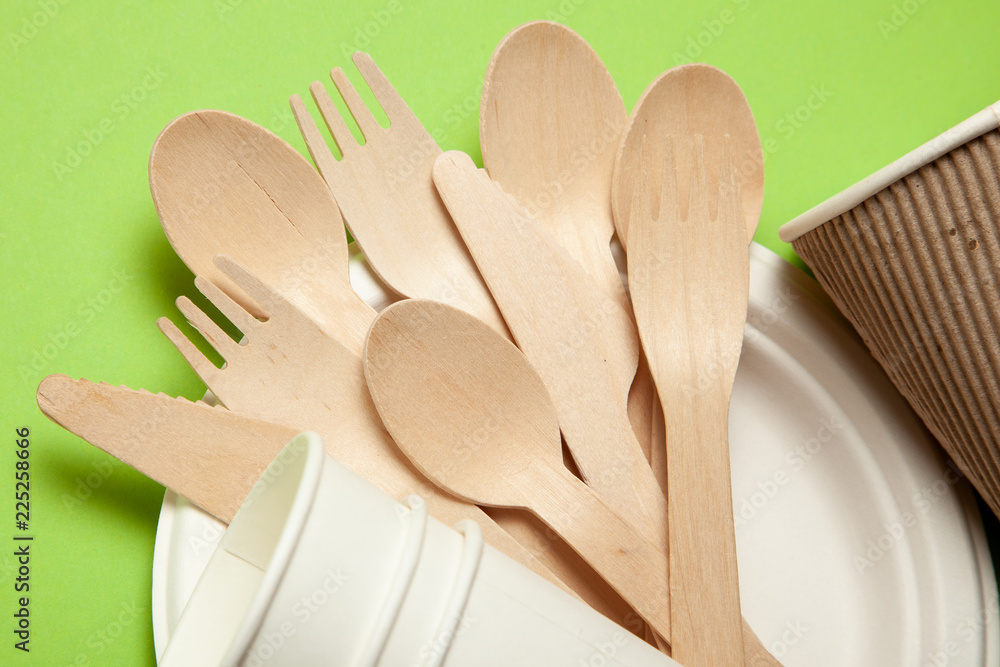Wooden Utensils: (27, 56, 829, 654)
